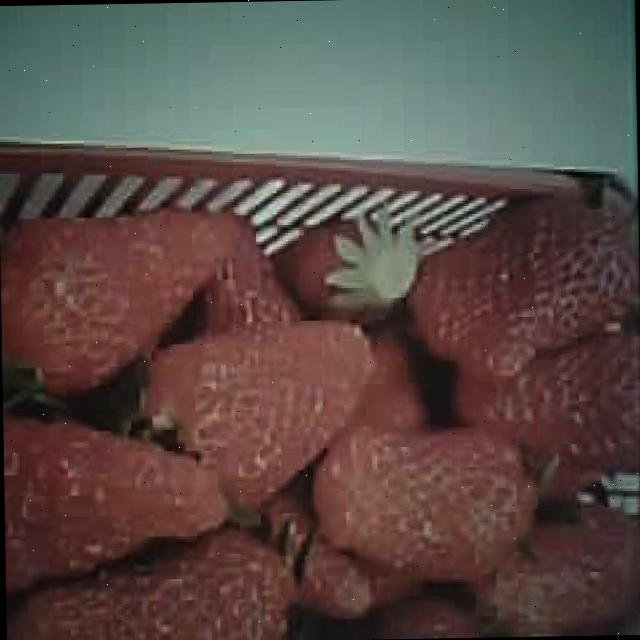strawberry: (0, 202, 226, 393), (2, 404, 226, 592), (153, 322, 367, 512), (317, 420, 531, 581)
